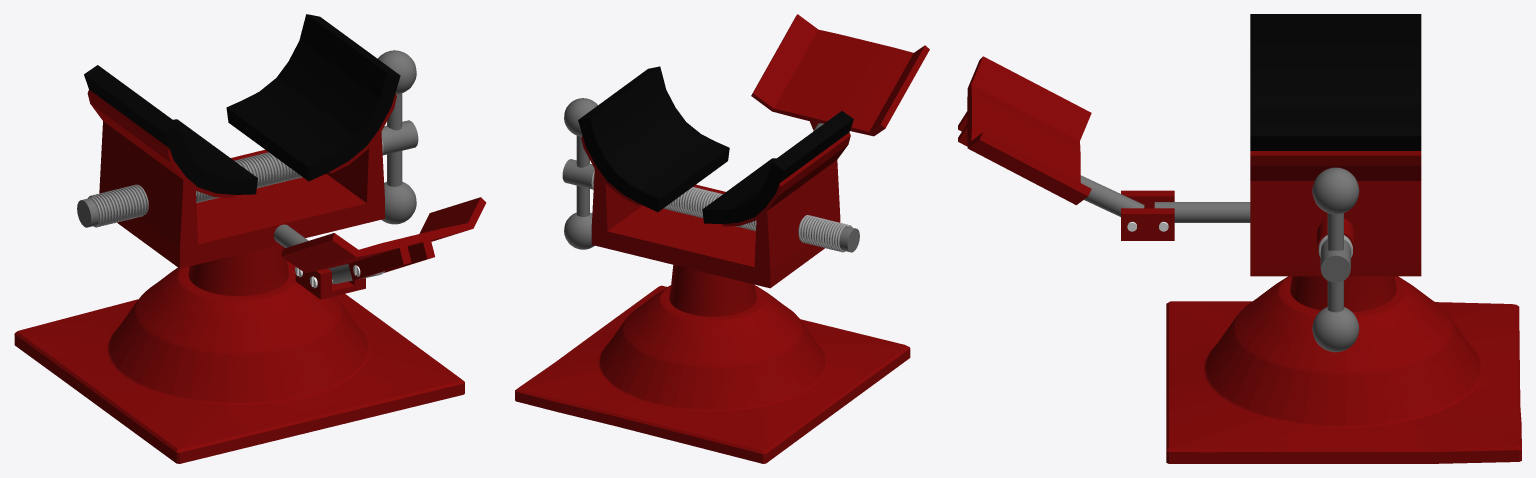
File: player chair.fbx
3 views of the same model, side by side, from view 1: azimuth 30°, elevation 25°; view 2: azimuth 150°, elevation 25°; view 3: azimuth 270°, elevation 25° (orthographic). The views are drawn at different scales.
Parts seen in each view (by area): view 1: polySurface43; view 2: polySurface43; view 3: polySurface43.
Part boxes in pixels (x1,y1,x2,y2): polySurface43: (14, 14, 486, 463); polySurface43: (515, 14, 929, 463); polySurface43: (958, 14, 1521, 463).
Size of the model in its own units: 15.13 by 13.33 by 21.11.
